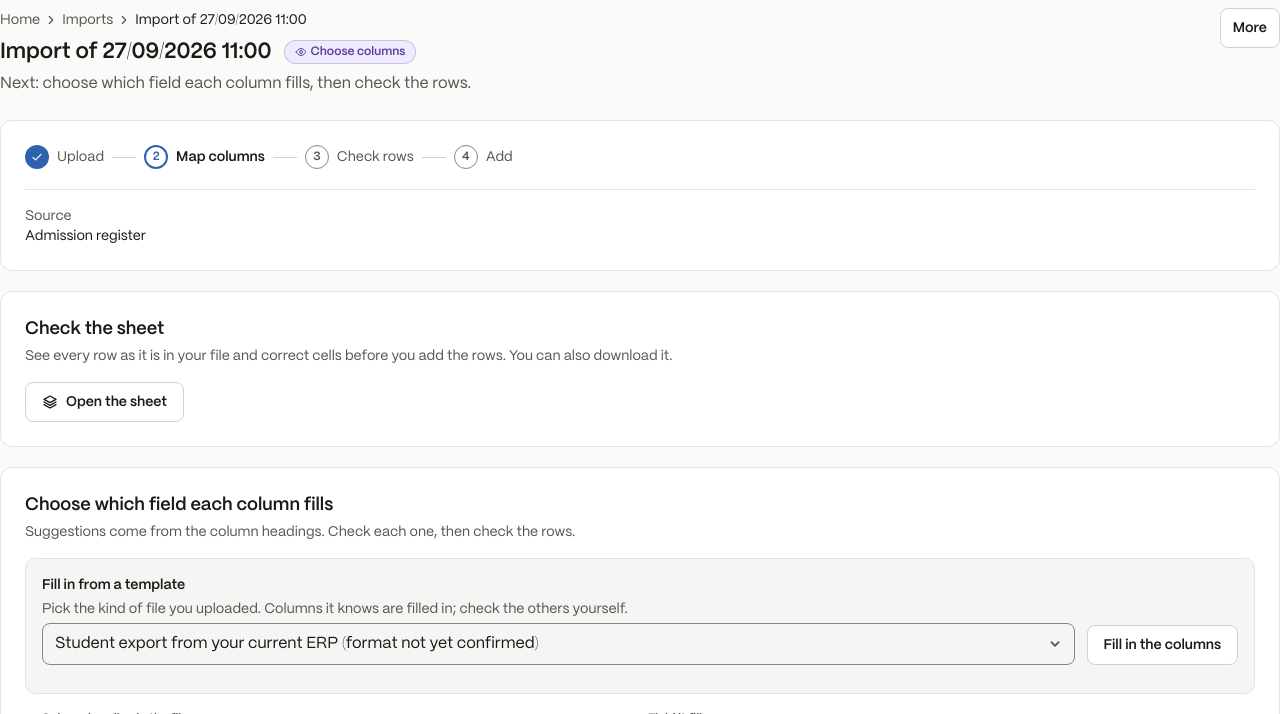
US-403 AC3: a preset fills in the mapping step without saving › pre-selects the preset's fields and leaves the rest
Expected: the dropdown labelled "Fill in from a template" shows "Student export from your current ERP (format not yet confirmed)", [42,623,1074,665]
Click the button "Fill in the columns": (1162, 645) [1086,625,1238,665]
(page scrolled)
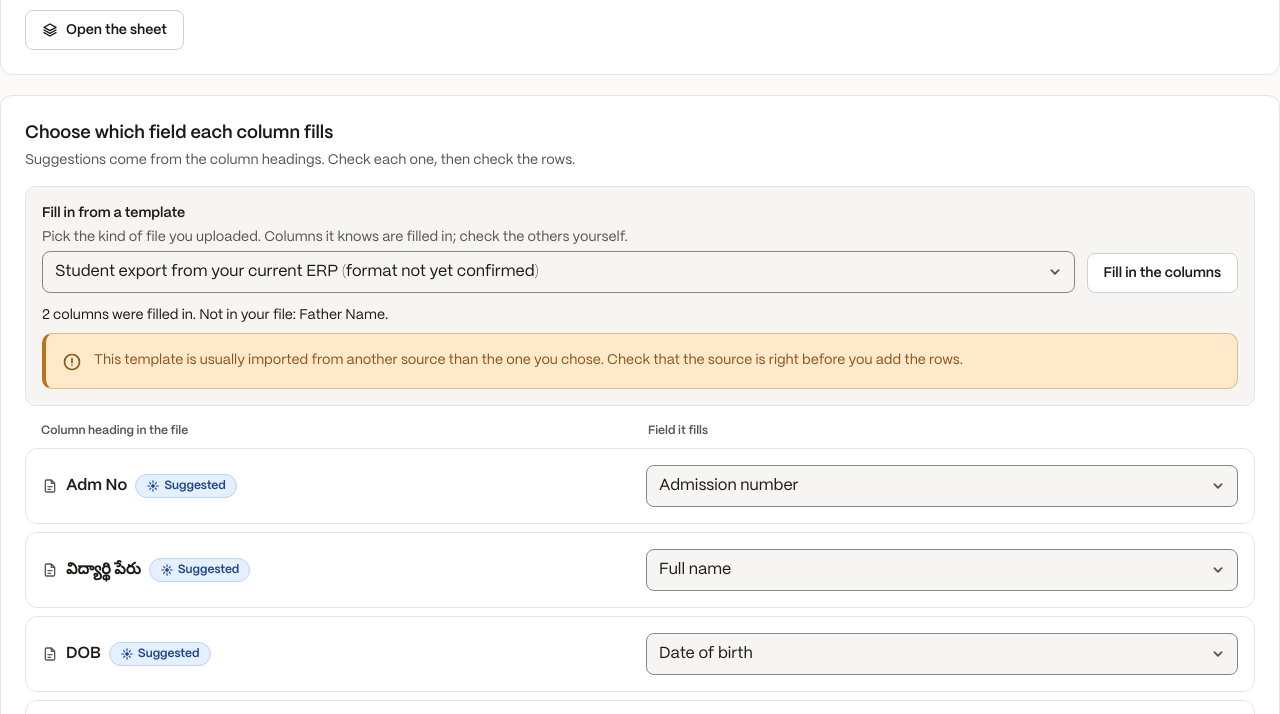
Expected: the text "2 columns were filled in. Not in your file: Father Name." is shown, [42,308,388,322]
Expected: the text "This template is usually imported from another source than the one you chose. Check that the source is right before you " is shown, [94,353,963,367]
